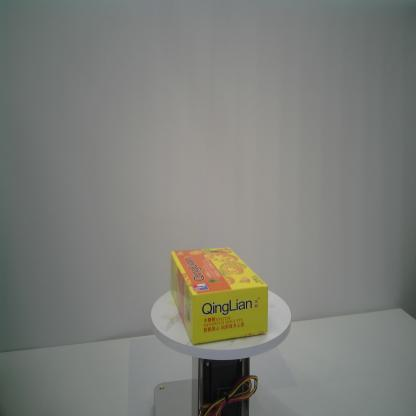Dessert: (168, 244, 270, 346)
